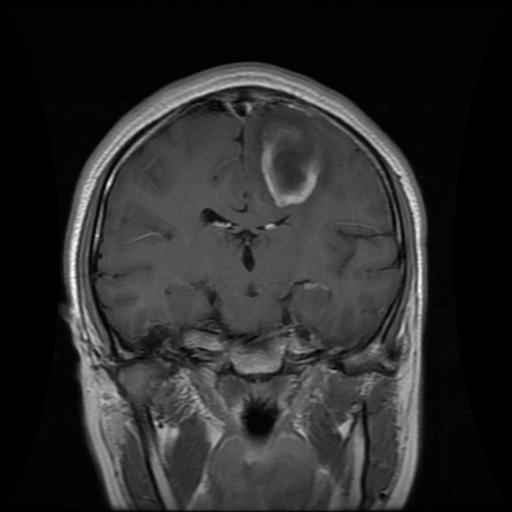Gliomia_tumour: (250, 104, 324, 207)
